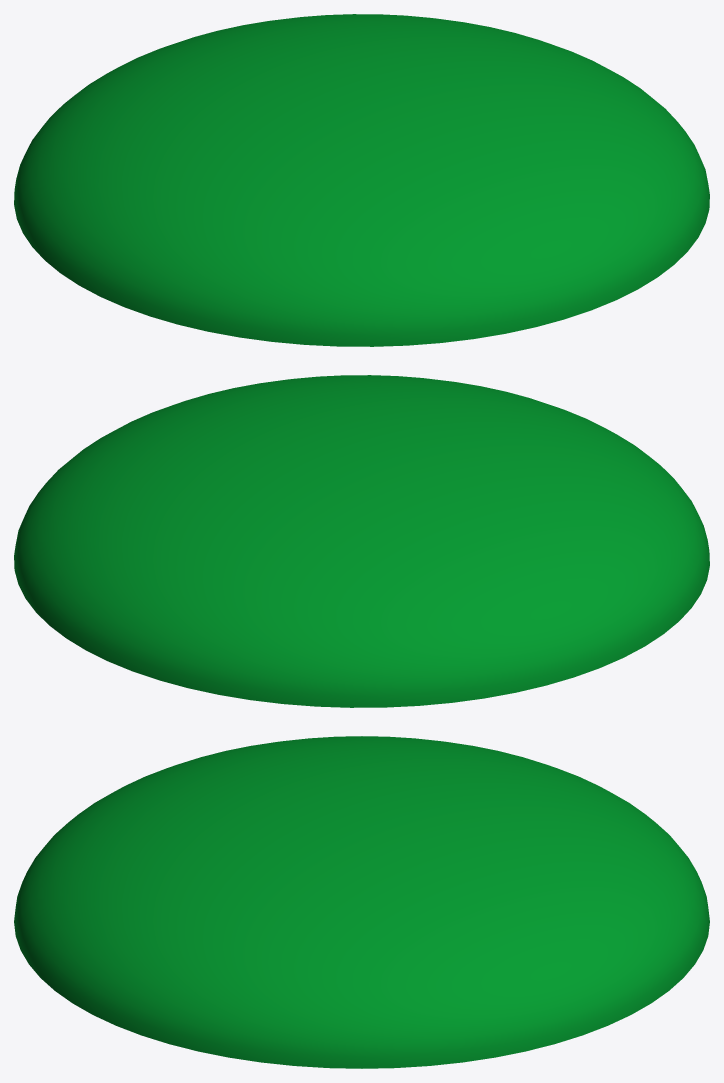
The model's file is Hill3.fbx.
The picture shows the model from 3 angles, top to bottom: view 1: azimuth 30°, elevation 25°; view 2: azimuth 150°, elevation 25°; view 3: azimuth 270°, elevation 25°; orthographic projection.
Parts seen in each view (by area): view 1: Hill3; view 2: Hill3; view 3: Hill3.
Part boxes in pixels (bbox=[...]): Hill3: bbox=[14, 14, 709, 346]; Hill3: bbox=[14, 375, 709, 707]; Hill3: bbox=[14, 736, 709, 1068].
Bounding box in the file's own units: 22.3 × 22.3 × 4.01.
